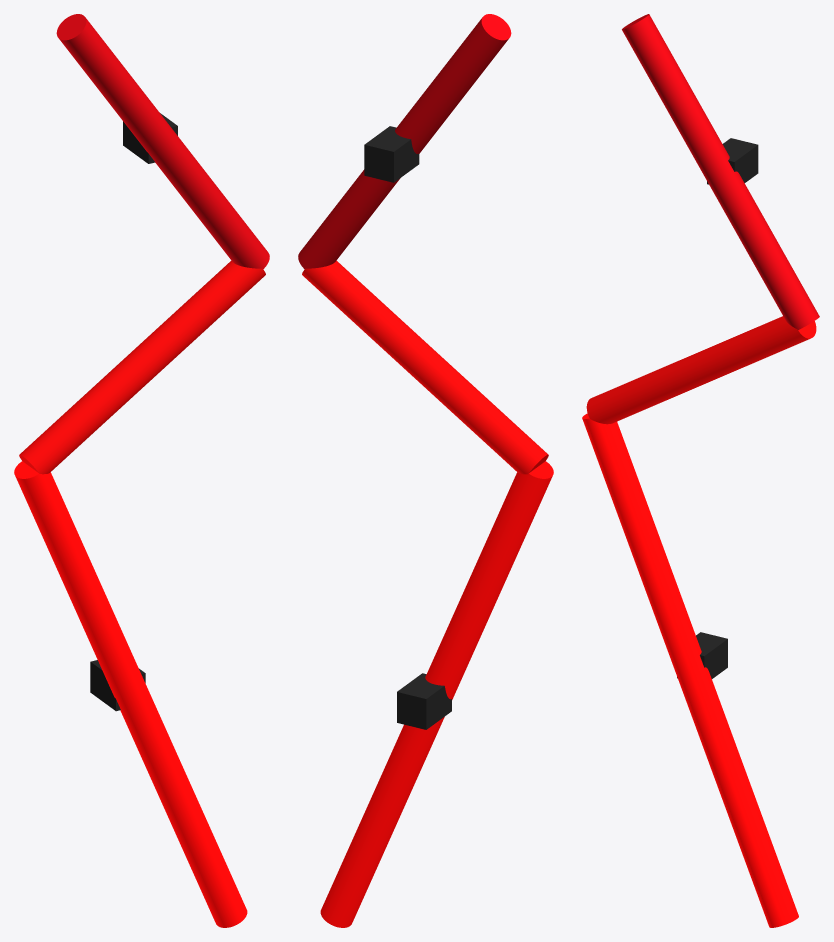
The model's file is state-default.glb.
3 renders of one model, left to right at view 1: azimuth 30°, elevation 25°; view 2: azimuth 150°, elevation 25°; view 3: azimuth 330°, elevation 25°, orthographic. The views are drawn at different scales.
Visible parts, largest first — view 1: assetPrim:048418404b31-19c7437cce5:neon-bolt-bot, assetPrim:048418404b31-19c7437cce5:neon-bolt-top, assetPrim:048418404b31-19c7437cce5:neon-bolt-mid, assetPrim:048418404b31-19c7437cce5:neon-mount-2, assetPrim:048418404b31-19c7437cce5:neon-mount-1; view 2: assetPrim:048418404b31-19c7437cce5:neon-bolt-bot, assetPrim:048418404b31-19c7437cce5:neon-bolt-mid, assetPrim:048418404b31-19c7437cce5:neon-bolt-top, assetPrim:048418404b31-19c7437cce5:neon-mount-1, assetPrim:048418404b31-19c7437cce5:neon-mount-2; view 3: assetPrim:048418404b31-19c7437cce5:neon-bolt-bot, assetPrim:048418404b31-19c7437cce5:neon-bolt-top, assetPrim:048418404b31-19c7437cce5:neon-bolt-mid, assetPrim:048418404b31-19c7437cce5:neon-mount-1, assetPrim:048418404b31-19c7437cce5:neon-mount-2.
Part boxes in pixels (x1=…): assetPrim:048418404b31-19c7437cce5:neon-bolt-bot: x1=14, y1=461, x2=247, y2=927; assetPrim:048418404b31-19c7437cce5:neon-bolt-top: x1=56, y1=14, x2=269, y2=269; assetPrim:048418404b31-19c7437cce5:neon-bolt-mid: x1=19, y1=260, x2=265, y2=474; assetPrim:048418404b31-19c7437cce5:neon-mount-2: x1=90, y1=660, x2=145, y2=711; assetPrim:048418404b31-19c7437cce5:neon-mount-1: x1=123, y1=113, x2=177, y2=163; assetPrim:048418404b31-19c7437cce5:neon-bolt-bot: x1=320, y1=461, x2=553, y2=927; assetPrim:048418404b31-19c7437cce5:neon-bolt-mid: x1=302, y1=260, x2=548, y2=474; assetPrim:048418404b31-19c7437cce5:neon-bolt-top: x1=298, y1=14, x2=511, y2=269; assetPrim:048418404b31-19c7437cce5:neon-mount-1: x1=364, y1=126, x2=419, y2=182; assetPrim:048418404b31-19c7437cce5:neon-mount-2: x1=397, y1=673, x2=451, y2=729; assetPrim:048418404b31-19c7437cce5:neon-bolt-bot: x1=582, y1=413, x2=798, y2=927; assetPrim:048418404b31-19c7437cce5:neon-bolt-top: x1=622, y1=14, x2=819, y2=329; assetPrim:048418404b31-19c7437cce5:neon-bolt-mid: x1=586, y1=316, x2=816, y2=424; assetPrim:048418404b31-19c7437cce5:neon-mount-1: x1=707, y1=138, x2=758, y2=184; assetPrim:048418404b31-19c7437cce5:neon-mount-2: x1=677, y1=632, x2=727, y2=678.
Bounding box in the file's own units: 0.1697 × 0.6105 × 0.04.
